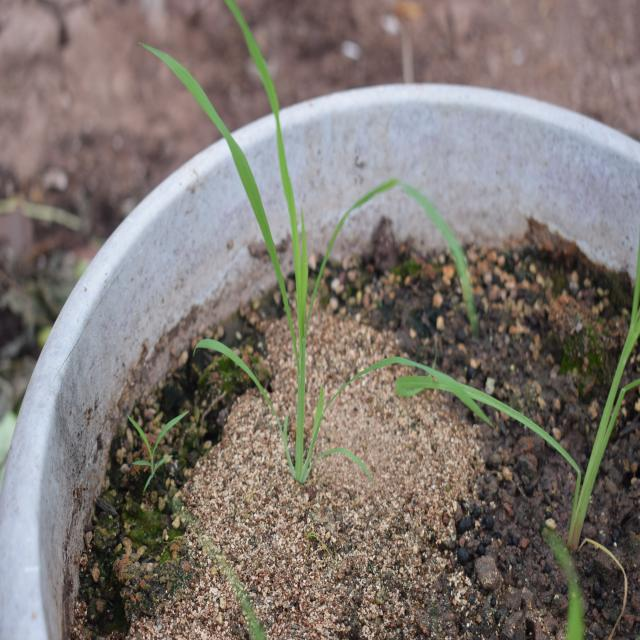barnyard_grass: (167, 31, 409, 468)
